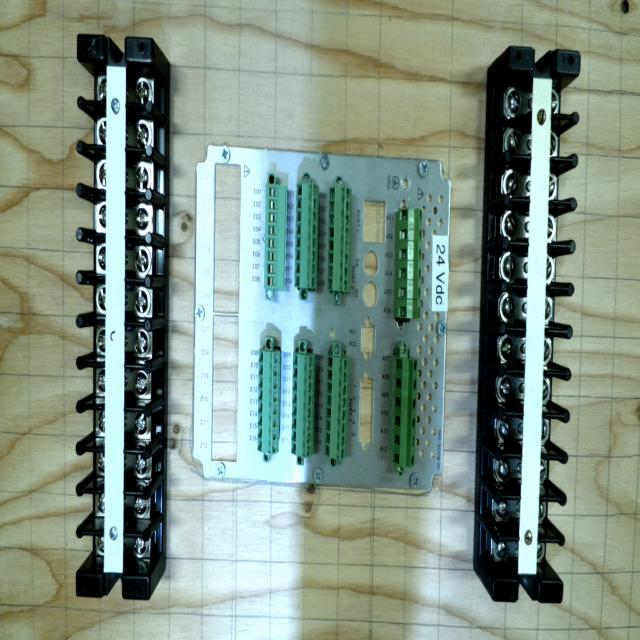Flathead_Block: (493, 48, 580, 602)
Phillips_Block: (77, 35, 151, 600)
Terminal_1: (392, 357, 418, 468), (397, 208, 422, 319)
Terminal_2: (324, 356, 349, 461), (327, 187, 352, 292), (294, 184, 319, 289), (291, 353, 315, 458), (257, 350, 280, 455)
